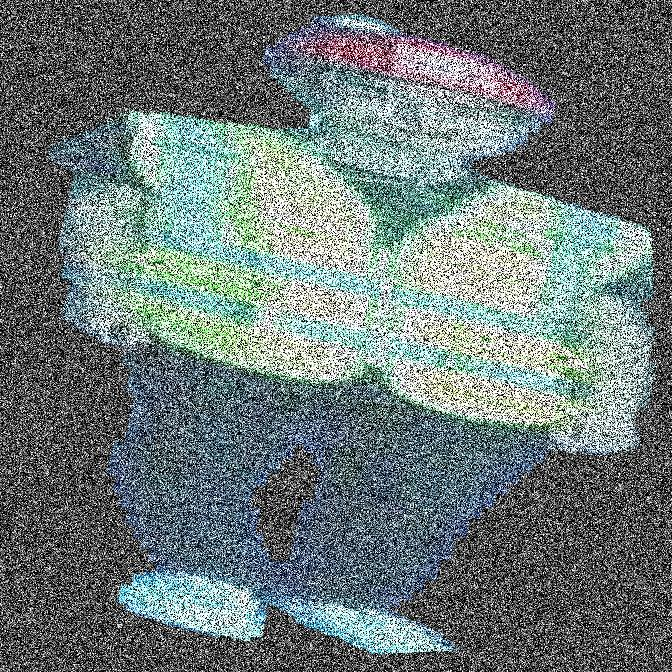Pessoa: (312, 0, 506, 671)
